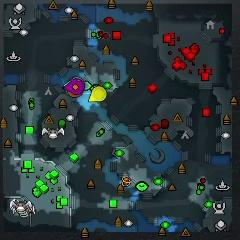p2: (63, 77, 72, 87)
p3: (62, 78, 85, 95)
p4: (88, 86, 107, 104)
p5: (68, 90, 83, 100)
